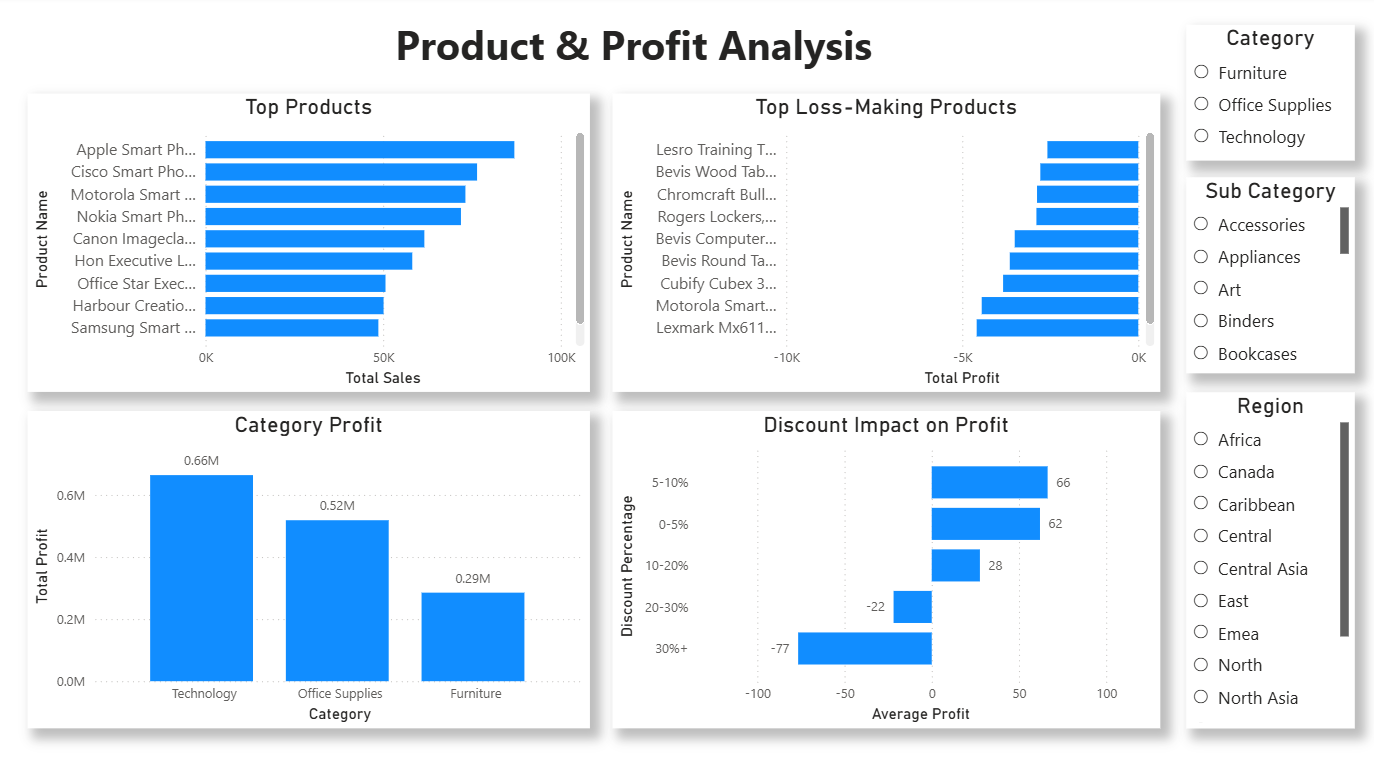

The page's visual inventory and layout, read from the dashboard file:
{"tool":"powerbi","page":{"name":"Product & Profit Analysis","canvas":[1280,720],"ordinal":1},"visuals":[{"type":"clusteredBarChart","title":"Top Products","fields":{"Category":["final_cleaned_superstore_sql_clean.product_name"],"Y":["Sum(final_cleaned_superstore_sql_clean.sales)"]},"box":[25.6,90.7,523.3,277.9],"z":0},{"type":"barChart","title":"Top Loss-Making Products","fields":{"Y":["Sum(final_cleaned_superstore_sql_clean.profit)"],"Category":["final_cleaned_superstore_sql_clean.product_name"]},"box":[569.8,90.7,509.3,277.9],"z":1000},{"type":"columnChart","title":"Category Profit","fields":{"Category":["final_cleaned_superstore_sql_clean.category"],"Y":["Sum(final_cleaned_superstore_sql_clean.profit)"]},"box":[25.6,386,523.3,295.3],"z":2000},{"type":"barChart","title":"Discount Impact on Profit","fields":{"Category":["final_cleaned_superstore_sql_clean.discount_bin"],"Y":["Avg(final_cleaned_superstore_sql_clean.profit)"]},"box":[569.8,386,509.3,295.3],"z":3000},{"type":"listSlicer","fields":{"Values":["final_cleaned_superstore_sql_clean.category"]},"box":[1103.5,26.7,157,126.7],"z":4000},{"type":"listSlicer","title":"Sub Category","fields":{"Values":["final_cleaned_superstore_sql_clean.sub_category"]},"box":[1103.5,168.6,157,182.6],"z":5000},{"type":"listSlicer","title":"Region","fields":{"Values":["final_cleaned_superstore_sql_clean.region"]},"box":[1103.5,368.6,157,312.8],"z":6000},{"type":"textbox","box":[100,15.1,979.1,59.3],"z":6001}]}

Visuals, with their boxes in screenshot pixels (x1, y1, x2, y2), scaled from the page's 1280x720 canvas onto the 1374x766 screenshot:
"Top Products" clusteredBarChart: BBox(27, 96, 589, 392)
"Top Loss-Making Products" barChart: BBox(612, 96, 1158, 392)
"Category Profit" columnChart: BBox(27, 411, 589, 725)
"Discount Impact on Profit" barChart: BBox(612, 411, 1158, 725)
listSlicer - final_cleaned_superstore_sql_clean.category: BBox(1185, 28, 1353, 163)
"Sub Category" listSlicer: BBox(1185, 179, 1353, 374)
"Region" listSlicer: BBox(1185, 392, 1353, 725)
textbox: BBox(107, 16, 1158, 79)
